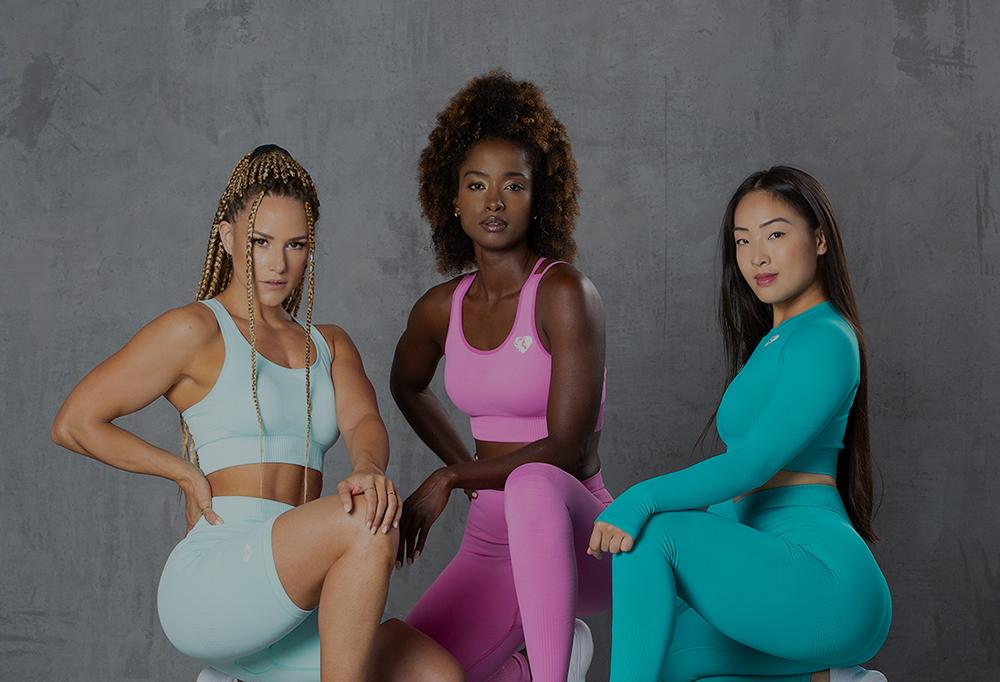Without Helmet: (419, 76, 577, 266), (207, 143, 326, 332), (721, 170, 846, 316)
